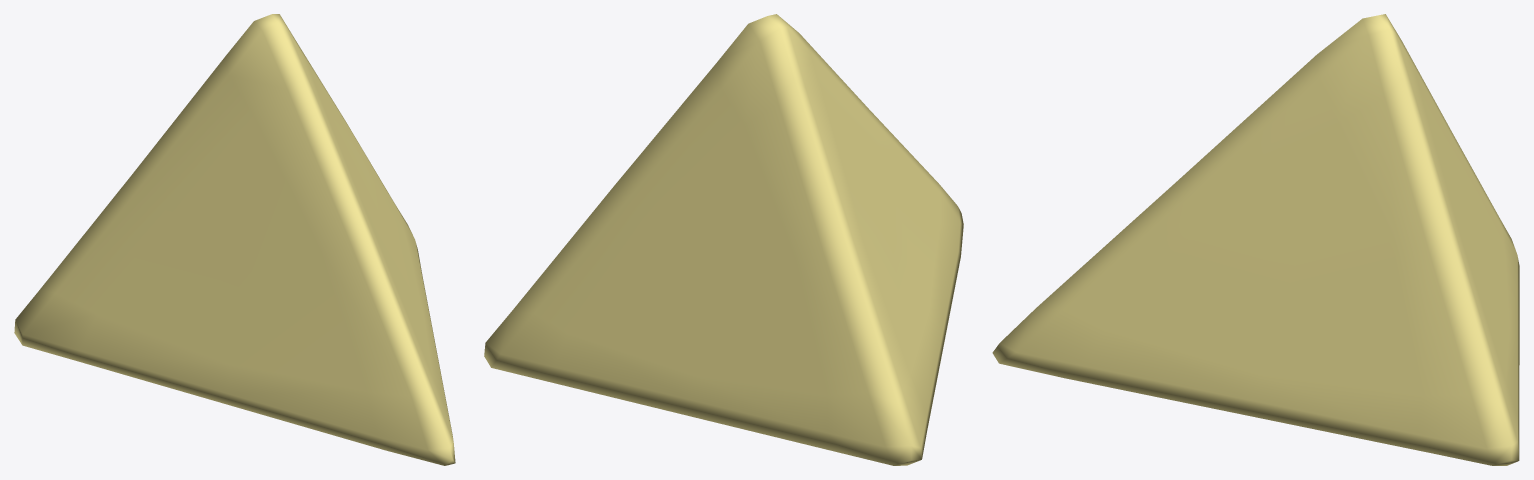
File: MTriangle.FBX
The picture shows the model from 3 angles, left to right: view 1: azimuth 30°, elevation 25°; view 2: azimuth 150°, elevation 25°; view 3: azimuth 270°, elevation 25°; orthographic projection. The views are drawn at different scales.
Parts seen in each view (by area): view 1: triangle003; view 2: triangle003; view 3: triangle003.
Boxes of the visible parts, bbox=[...] form: triangle003: bbox=[14, 14, 455, 465]; triangle003: bbox=[484, 14, 963, 465]; triangle003: bbox=[992, 14, 1519, 465].
Bounding box in the file's own units: 1.19 × 0.9326 × 1.28.
